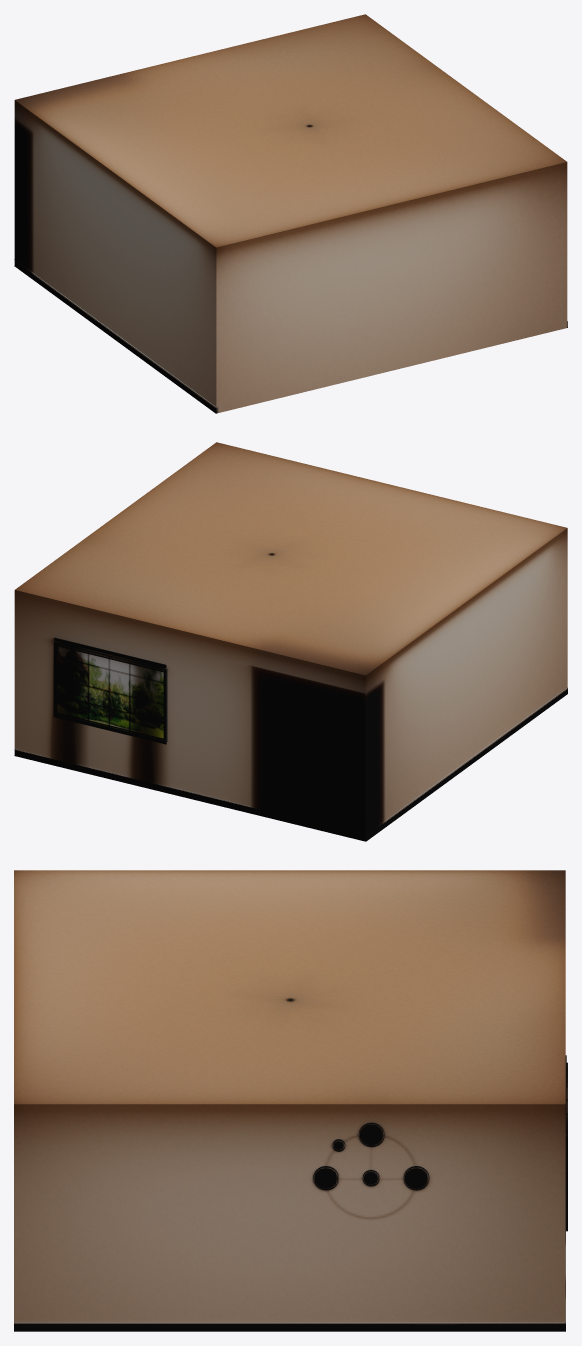
The model's file is room.glb.
The picture shows the model from 3 angles, top to bottom: view 1: azimuth 30°, elevation 25°; view 2: azimuth 150°, elevation 25°; view 3: azimuth 270°, elevation 25°; orthographic projection. The views are drawn at different scales.
Visible parts, largest first — view 1: WallMesh; view 2: WallMesh; view 3: WallMesh.
Boxes of the visible parts, x1,y1,x2,y2 form: WallMesh: [14, 14, 567, 413]; WallMesh: [14, 442, 567, 841]; WallMesh: [14, 870, 567, 1331].
Size of the model in its own units: 6.54 by 2.94 by 6.5.
Materials: 2 (1 with a texture image).
